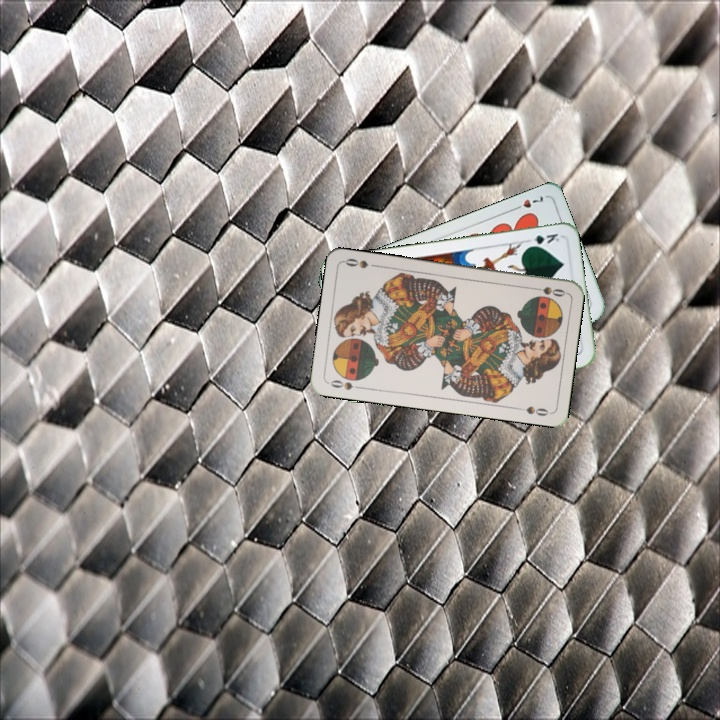GK: (522, 229, 562, 250)
H7: (508, 192, 546, 213)
SO: (528, 283, 568, 299), (325, 376, 365, 392)
